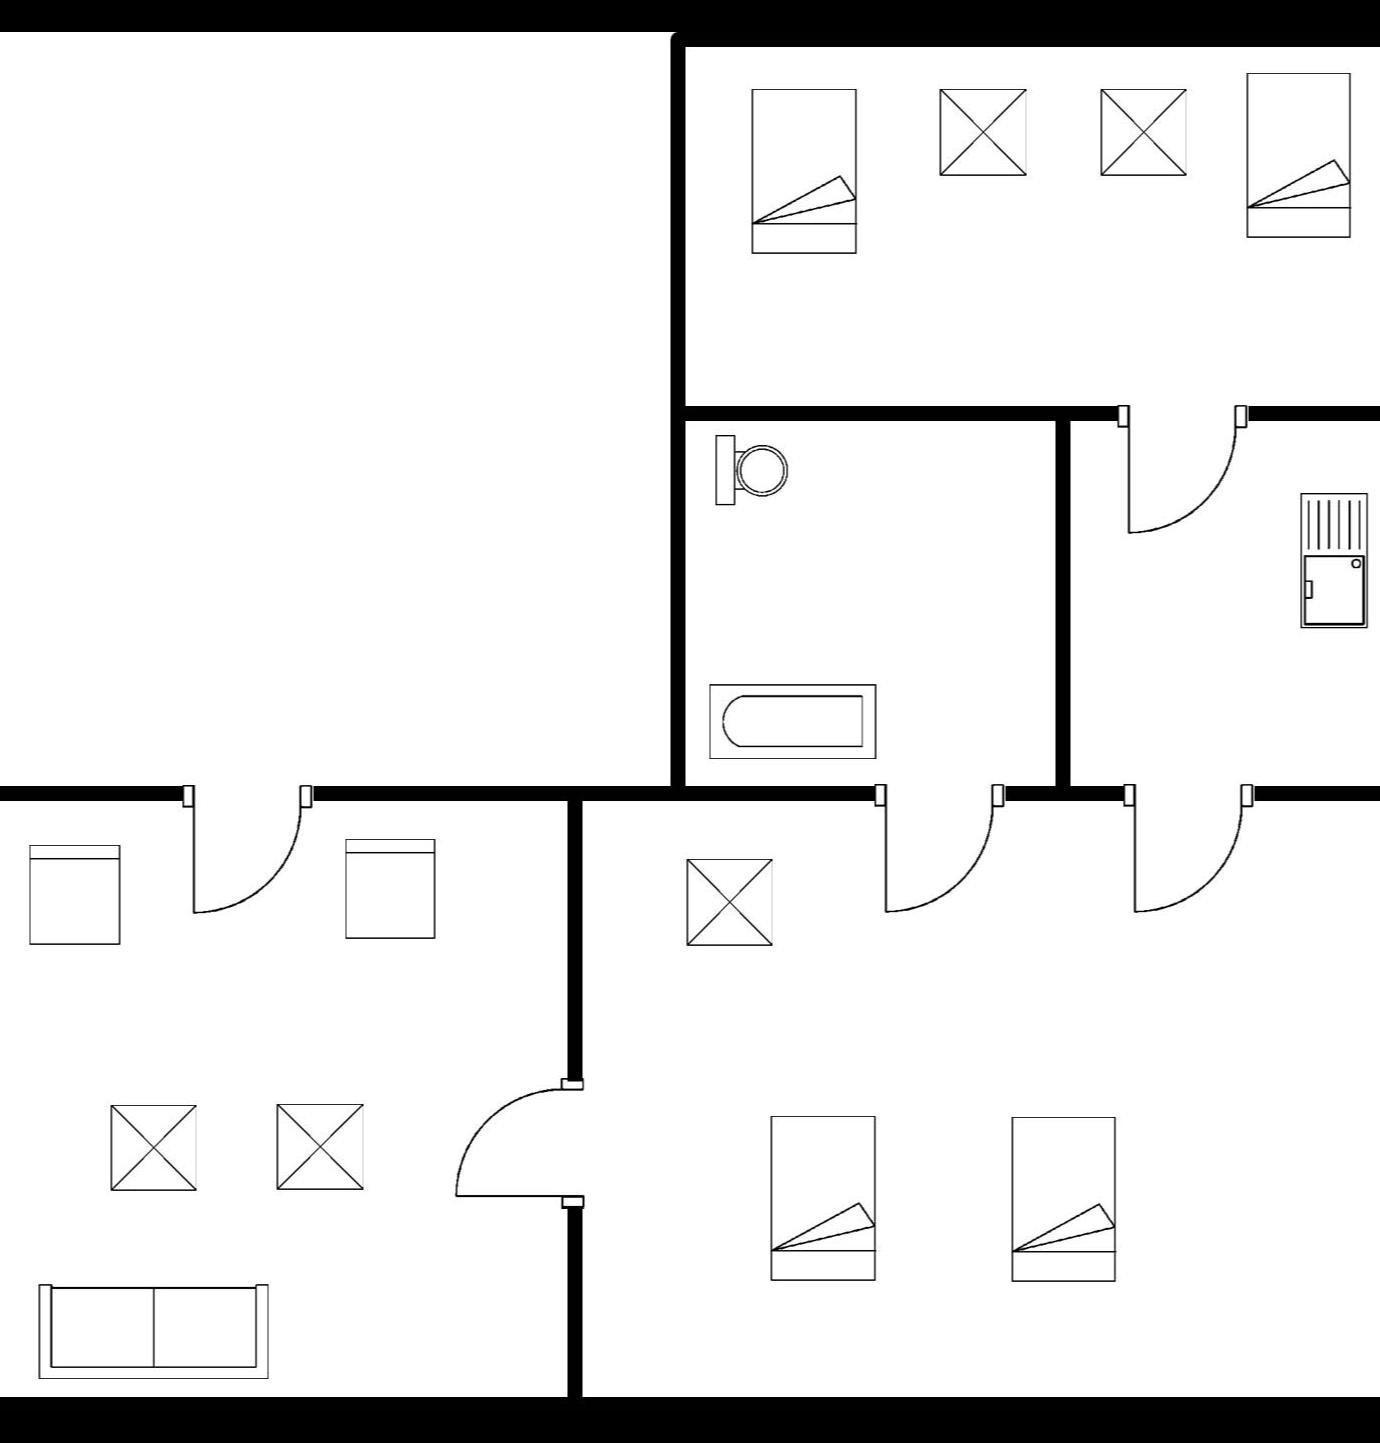bed: (758, 1103, 889, 1291), (738, 80, 868, 263), (1000, 1108, 1125, 1294)
sink: (1291, 484, 1375, 639)
sofa: (27, 1274, 280, 1390)
toilet: (704, 433, 792, 513)
tub: (698, 674, 886, 767)
